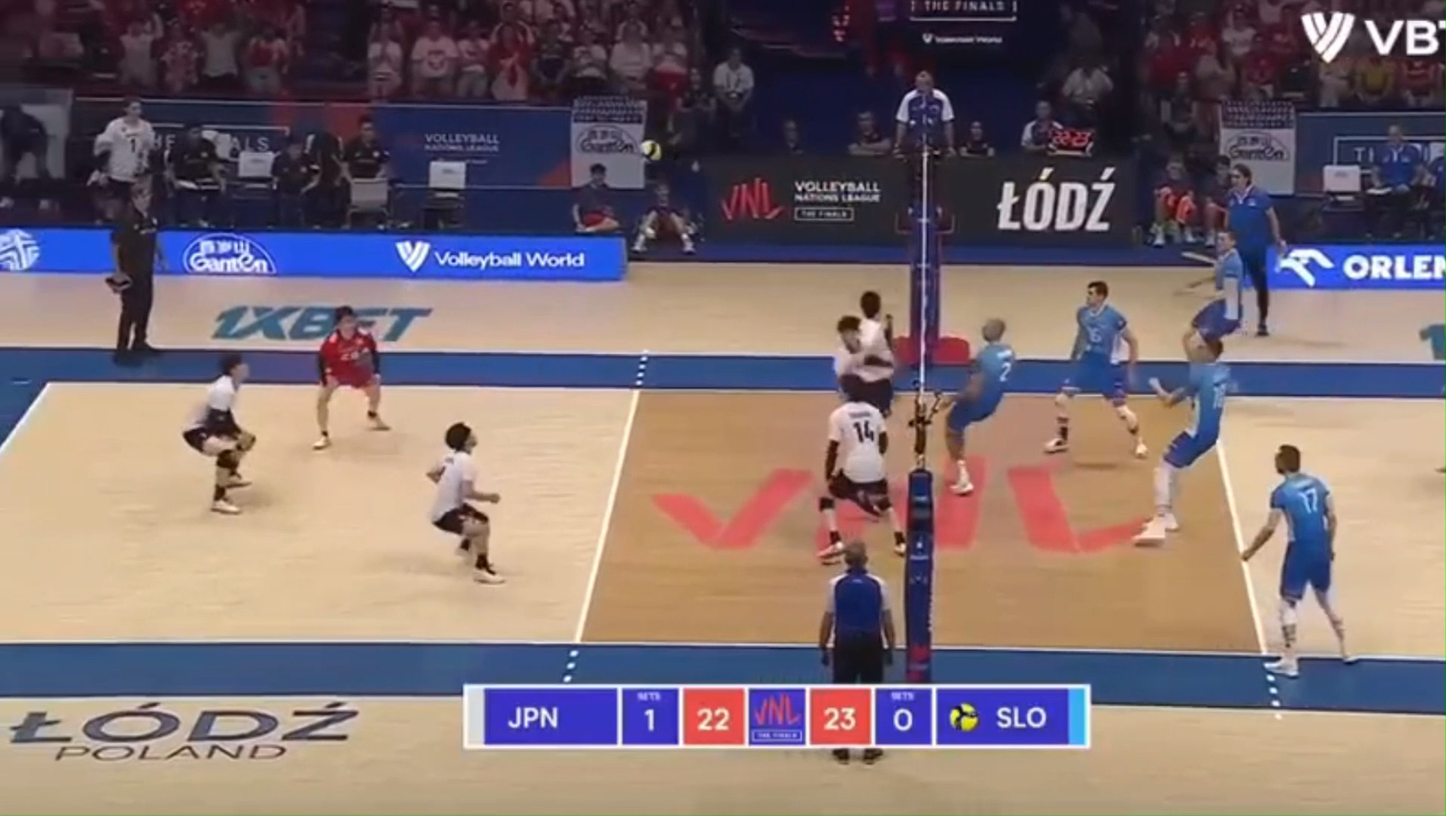ball: (641, 140, 661, 160)
player: (1241, 444, 1353, 677), (1133, 335, 1230, 545), (1044, 280, 1147, 457), (945, 318, 1015, 496), (1182, 231, 1245, 336)
player 1: (819, 377, 904, 561), (426, 422, 504, 583), (182, 354, 255, 514), (312, 305, 389, 450), (835, 315, 894, 418), (860, 290, 882, 321)
referee: (818, 541, 894, 683), (1225, 163, 1284, 336), (895, 70, 956, 236), (106, 181, 160, 363)
